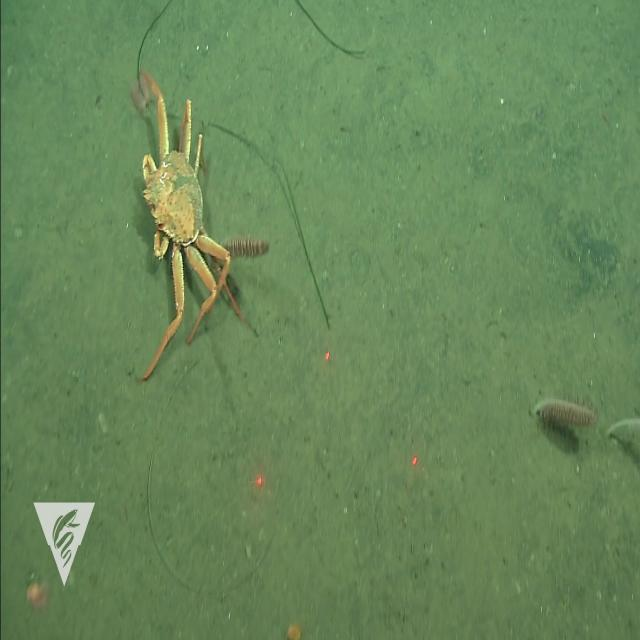Not Brittle Star: (137, 138, 205, 263)
